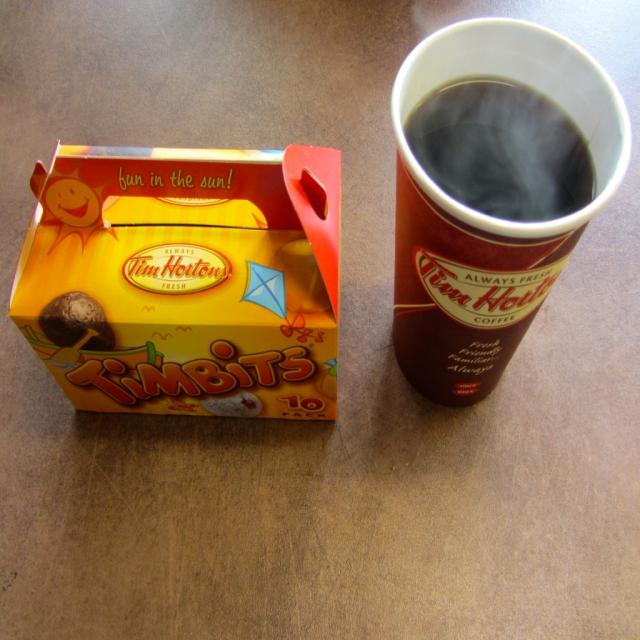Coffee: (404, 76, 594, 224)
